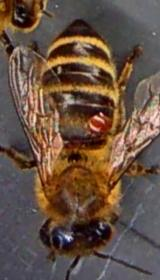varroa_mite: (80, 110, 108, 135)
